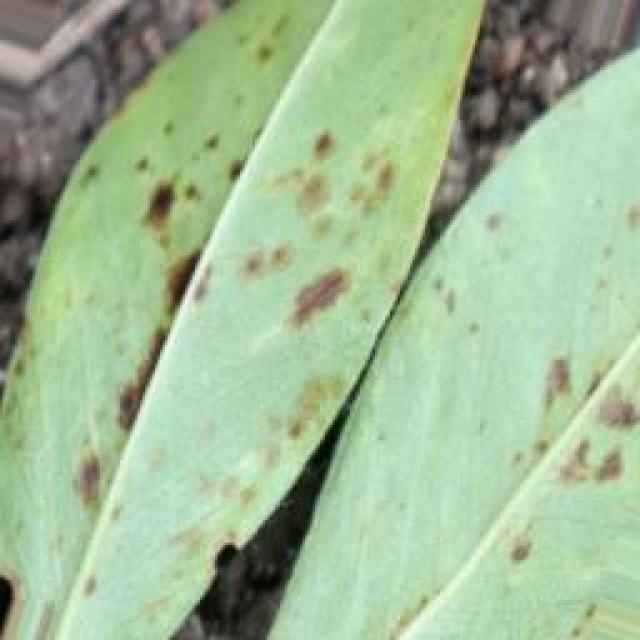Whitefly: (35, 0, 640, 601)
